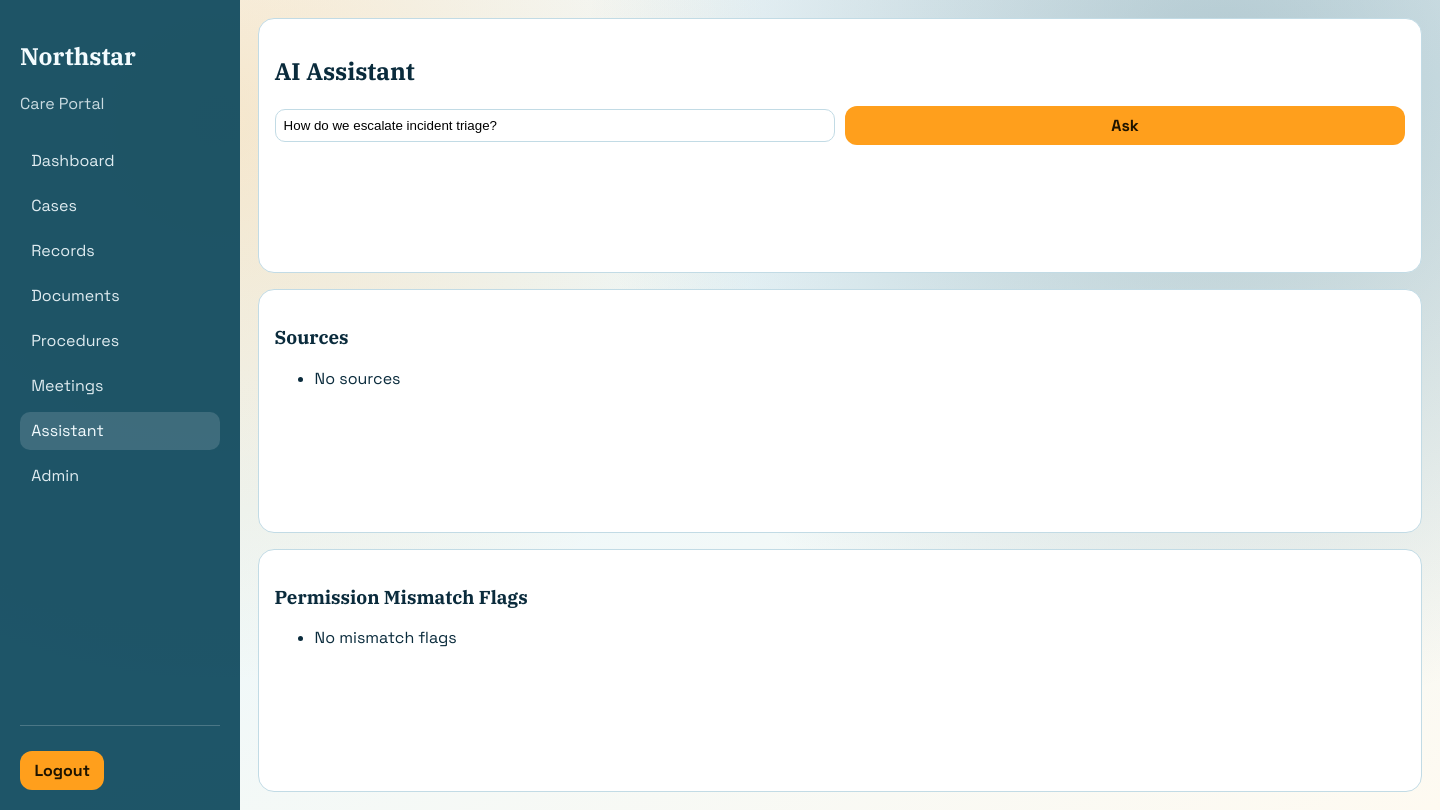
Scenario: assistant page › asks assistant and renders response sources
Expected: the heading "AI Assistant" is shown, [275,54,415,86]
Click the button "Ask".
click(1125, 126)  # box [845,106,1405,145]
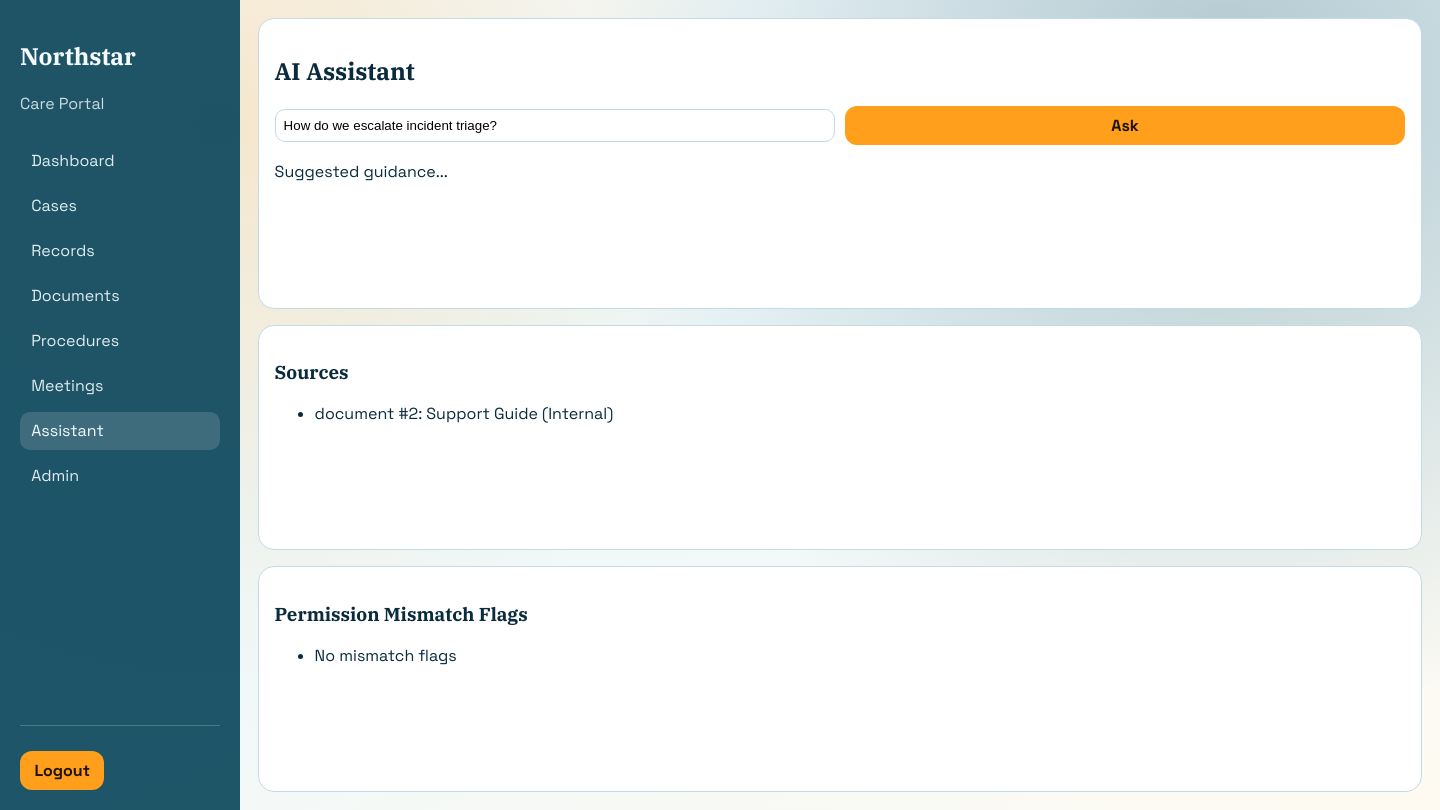
Result: the text "Suggested guidance..." is shown at [275,161,448,182]
Result: the list item "document #2: Support Guide (Internal)" is shown at [315,403,613,424]
